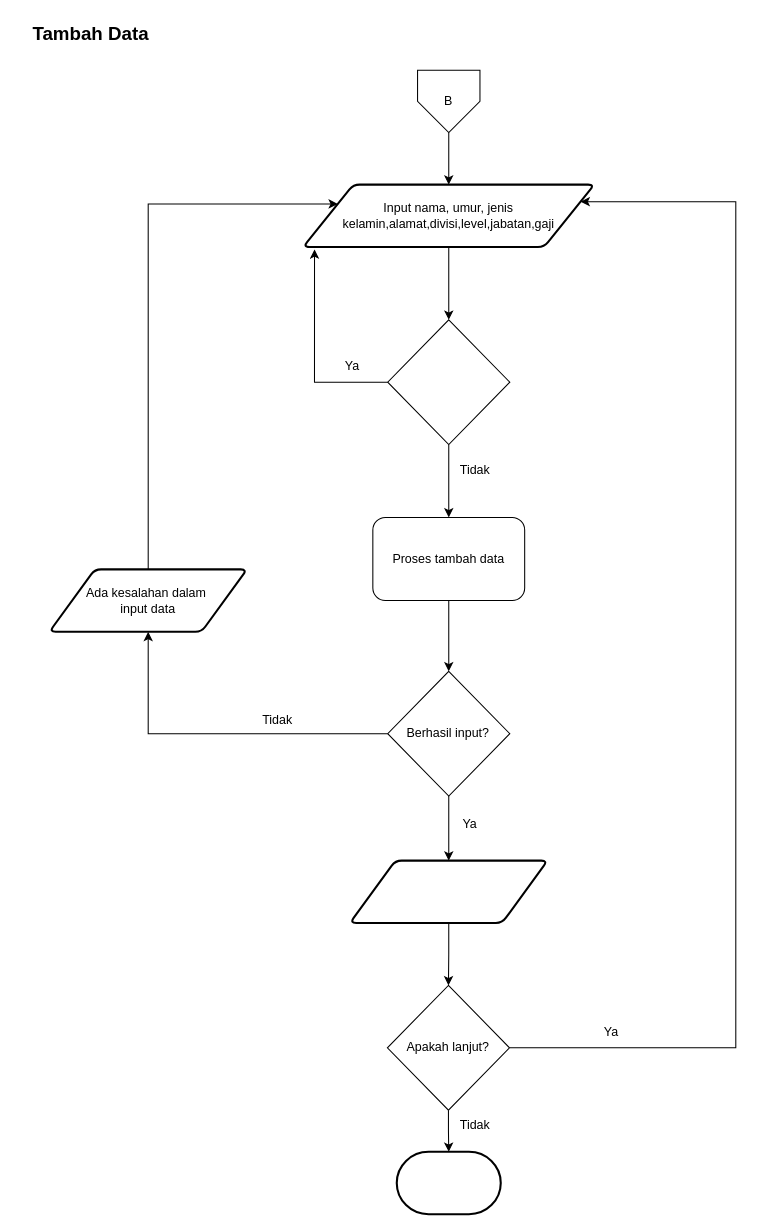
The diagram is 762 pixels wide and 1232 high, and some of its shapes have lost their labels. Each missing label, with the centre of its shape:
"Apakah nama terduplikat?" goes at pixel 448 382.
"Data berhasil ditambah" goes at pixel 448 891.
"Selesai" goes at pixel 448 1182.
